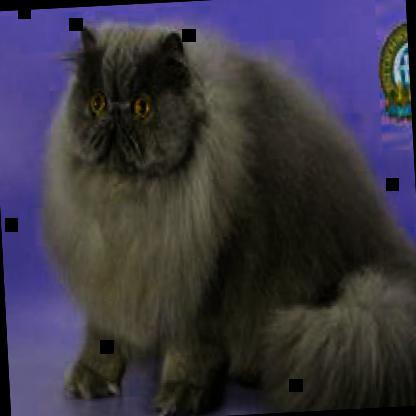cat: (32, 4, 415, 415)
